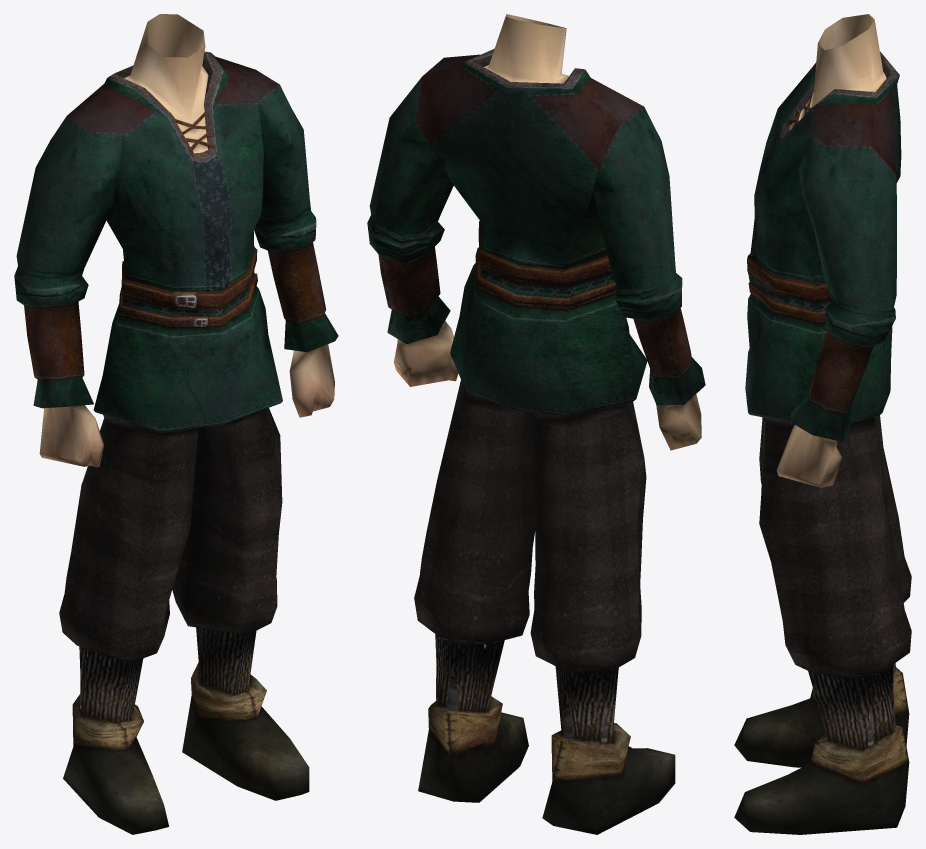
The model's file is GS_SLAV_VLK_01_2_KOZA.glb.
3 views of the same model, side by side, from view 1: azimuth 30°, elevation 25°; view 2: azimuth 150°, elevation 25°; view 3: azimuth 270°, elevation 25° (orthographic). The views are drawn at different scales.
Parts seen in each view (by area): view 1: GS_SLAV_VLK_01_2_KOZA; view 2: GS_SLAV_VLK_01_2_KOZA; view 3: GS_SLAV_VLK_01_2_KOZA.
Part boxes in pixels (bbox=[...]): GS_SLAV_VLK_01_2_KOZA: bbox=[14, 14, 338, 834]; GS_SLAV_VLK_01_2_KOZA: bbox=[367, 14, 705, 834]; GS_SLAV_VLK_01_2_KOZA: bbox=[734, 14, 911, 834].
Bounding box in the file's own units: 0.6903 × 1.68 × 0.3516.
Materials: 3 (3 with a texture image).
